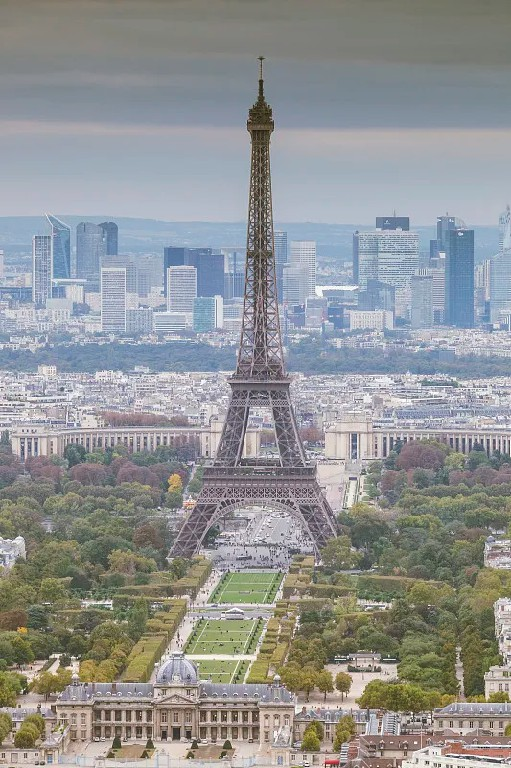Eiffel: (165, 57, 341, 573)
